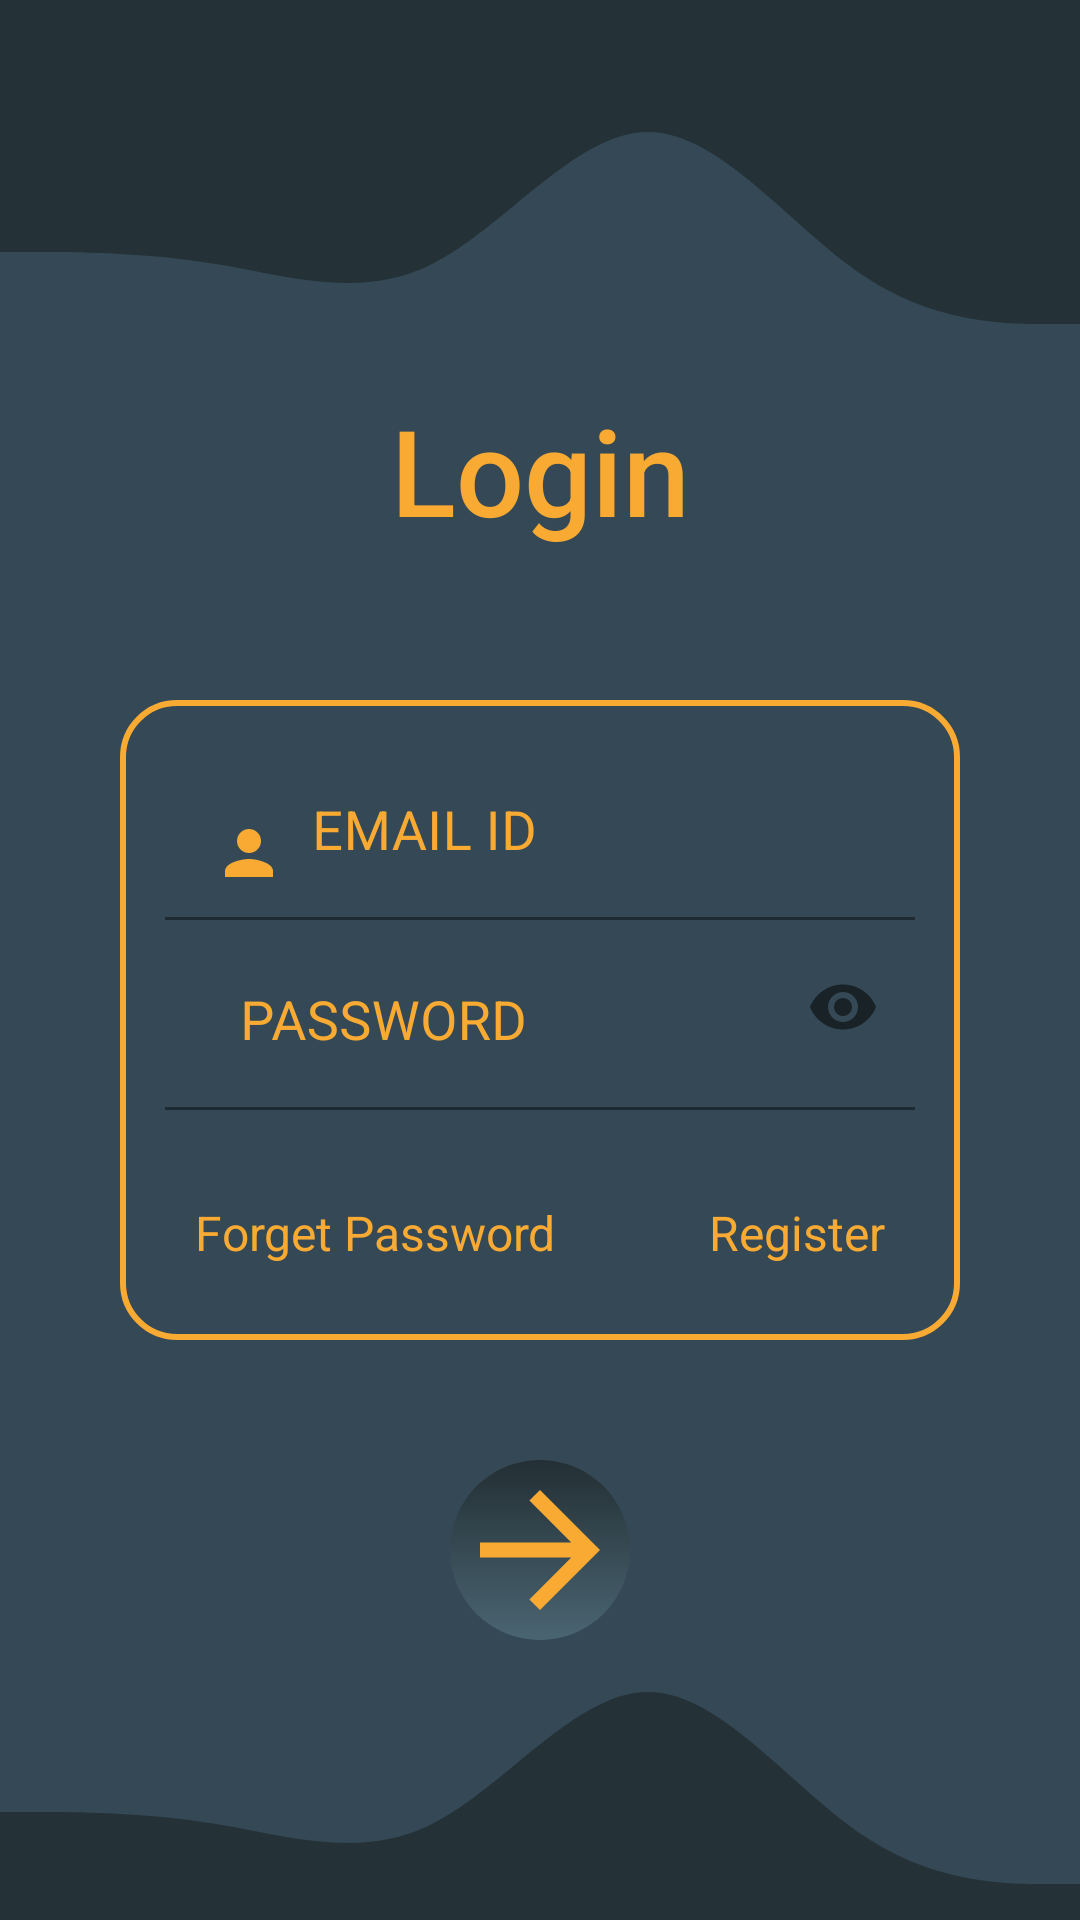

Named icons in this screenshot (1080px x 1920px) and their centers, (x,y):
arrow forward: (540,1550)
